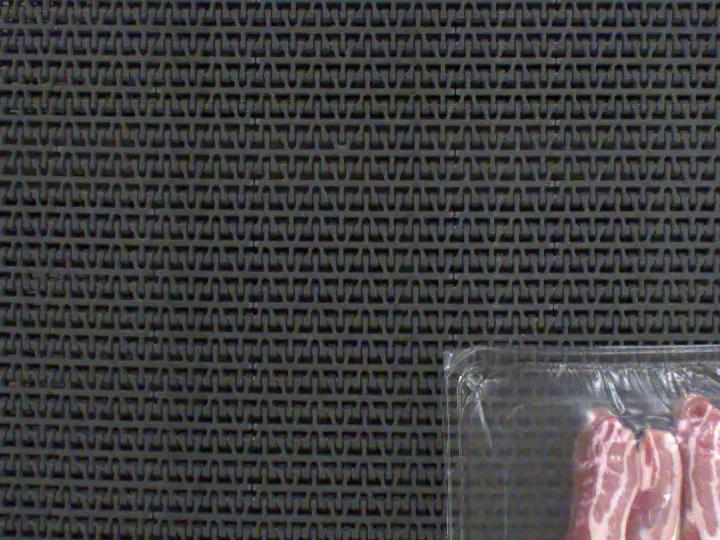unsealed: (495, 355, 720, 540)
